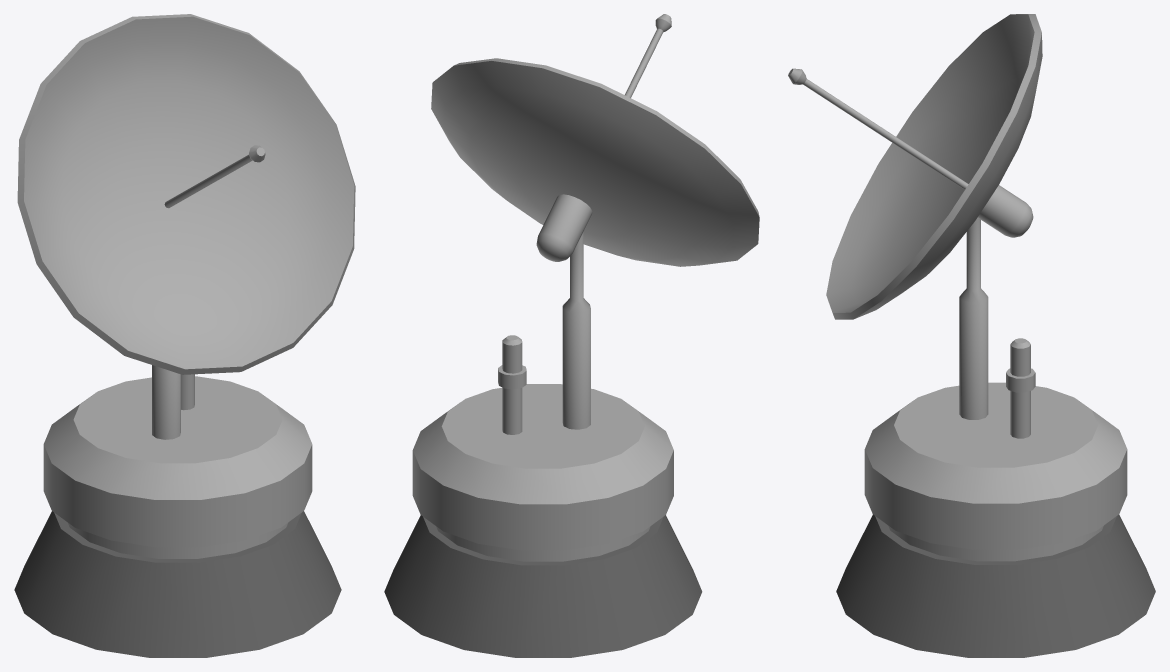
Rendered from RoofRadar.glb.
3 views of the same model, side by side, from view 1: azimuth 30°, elevation 25°; view 2: azimuth 150°, elevation 25°; view 3: azimuth 270°, elevation 25° (orthographic). The views are drawn at different scales.
Visible parts, largest first — view 1: Roof_Radar; view 2: Roof_Radar; view 3: Roof_Radar.
Part boxes in pixels (bbox=[...]): Roof_Radar: bbox=[14, 14, 355, 657]; Roof_Radar: bbox=[384, 14, 759, 657]; Roof_Radar: bbox=[788, 14, 1155, 657].
Size of the model in its own units: 1.63 by 2.71 by 1.65.
Materials: 1 (1 with a texture image).
